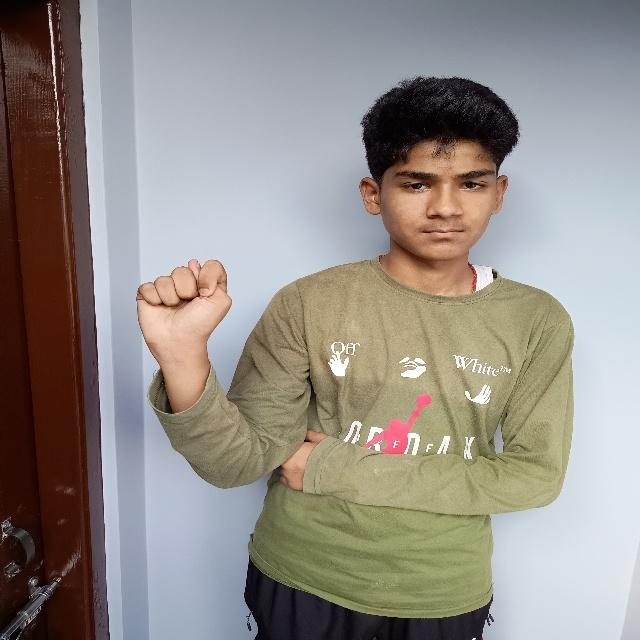Dulya: (127, 250, 237, 381)
